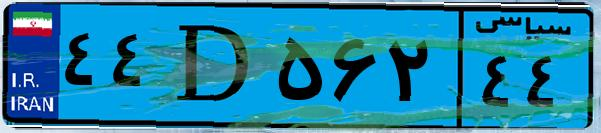2: (385, 28, 445, 110)
4: (57, 26, 110, 100), (475, 38, 525, 113), (525, 38, 570, 115), (110, 28, 158, 98)
5: (270, 28, 330, 110)
6: (330, 28, 385, 110)
D: (158, 12, 270, 120)
